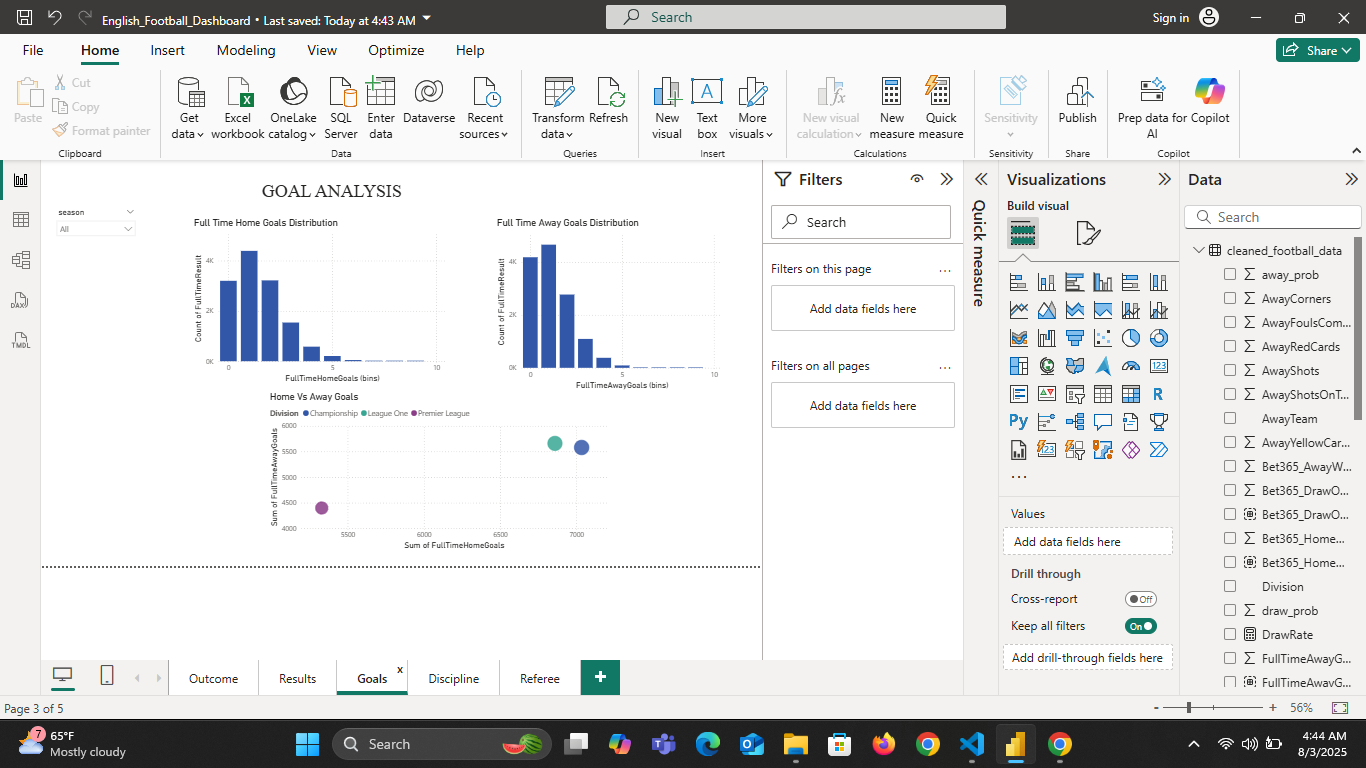

What the dashboard file says about the page in this screenshot:
{"tool":"powerbi","page":{"name":"Goals","canvas":[1280,720],"ordinal":2},"visuals":[{"type":"textbox","box":[386.4,31.9,337.6,65.5],"z":0},{"type":"clusteredColumnChart","title":"Full Time Home Goals Distribution","fields":{"Category":["cleaned_football_data.FullTimeHomeGoals (bins)"],"Y":["CountNonNull(cleaned_football_data.FullTimeResult)"]},"box":[267.1,100.8,456.9,299],"z":1000},{"type":"slicer","fields":{"Values":["cleaned_football_data.season"]},"box":[18.5,80.6,159.6,319.2],"z":2000},{"type":"clusteredColumnChart","title":"Full Time Away Goals Distribution","fields":{"Category":["cleaned_football_data.FullTimeAwayGoals (bins)"],"Y":["CountNonNull(cleaned_football_data.FullTimeResult)"]},"box":[804.6,100.8,409.9,310.8],"z":3000},{"type":"scatterChart","title":"Home Vs Away Goals","fields":{"X":["Sum(cleaned_football_data.FullTimeHomeGoals)"],"Y":["Sum(cleaned_football_data.FullTimeAwayGoals)"],"Series":["cleaned_football_data.Division"],"Size":["CountNonNull(cleaned_football_data.FullTimeResult)"]},"box":[401.5,409.9,621.5,287.2],"z":4000}]}

Visuals, with their boxes on the page's 1280x720 design canvas (x1, y1, x2, y2). These are canvas units, not pixel positions in the 1366x768 screenshot, which may show the page scaled, cropped or inside an application window:
textbox: bbox=[386, 32, 724, 97]
"Full Time Home Goals Distribution" clusteredColumnChart: bbox=[267, 101, 724, 400]
slicer - cleaned_football_data.season: bbox=[18, 81, 178, 400]
"Full Time Away Goals Distribution" clusteredColumnChart: bbox=[805, 101, 1214, 412]
"Home Vs Away Goals" scatterChart: bbox=[402, 410, 1023, 697]
